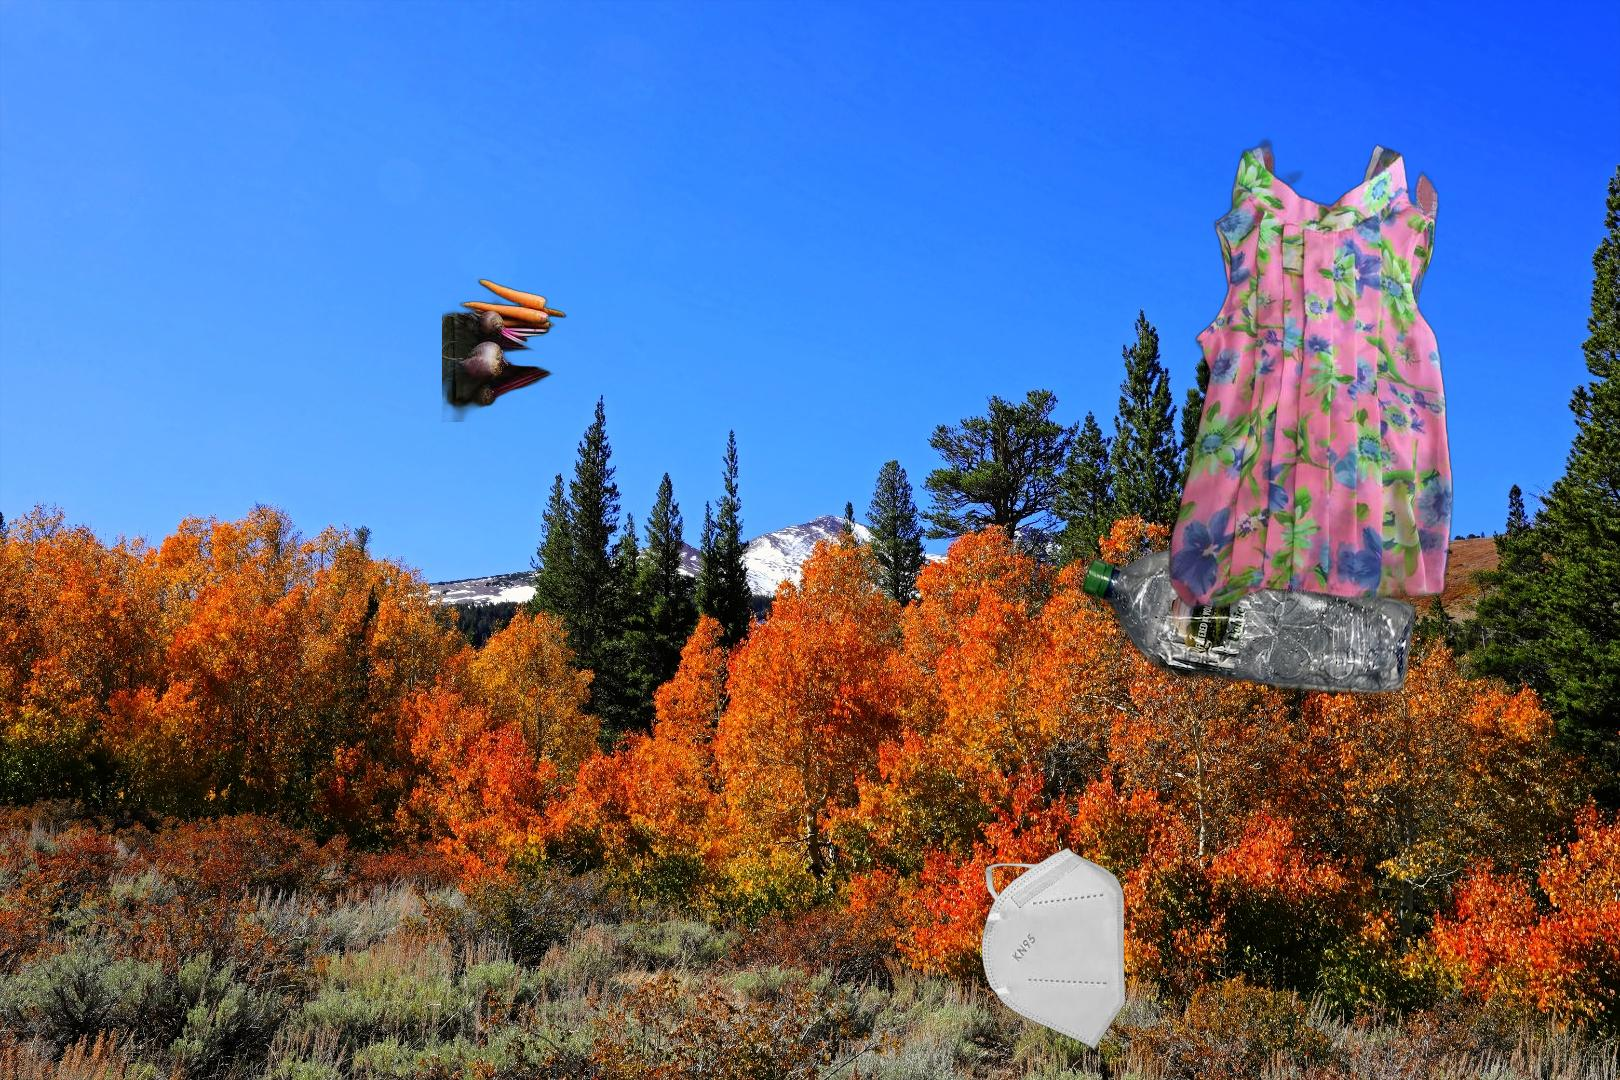biological: (442, 260, 735, 422)
clothes: (1166, 135, 1457, 618)
plastic-bottles: (1078, 491, 1421, 704)
trash: (906, 846, 1128, 1061)
